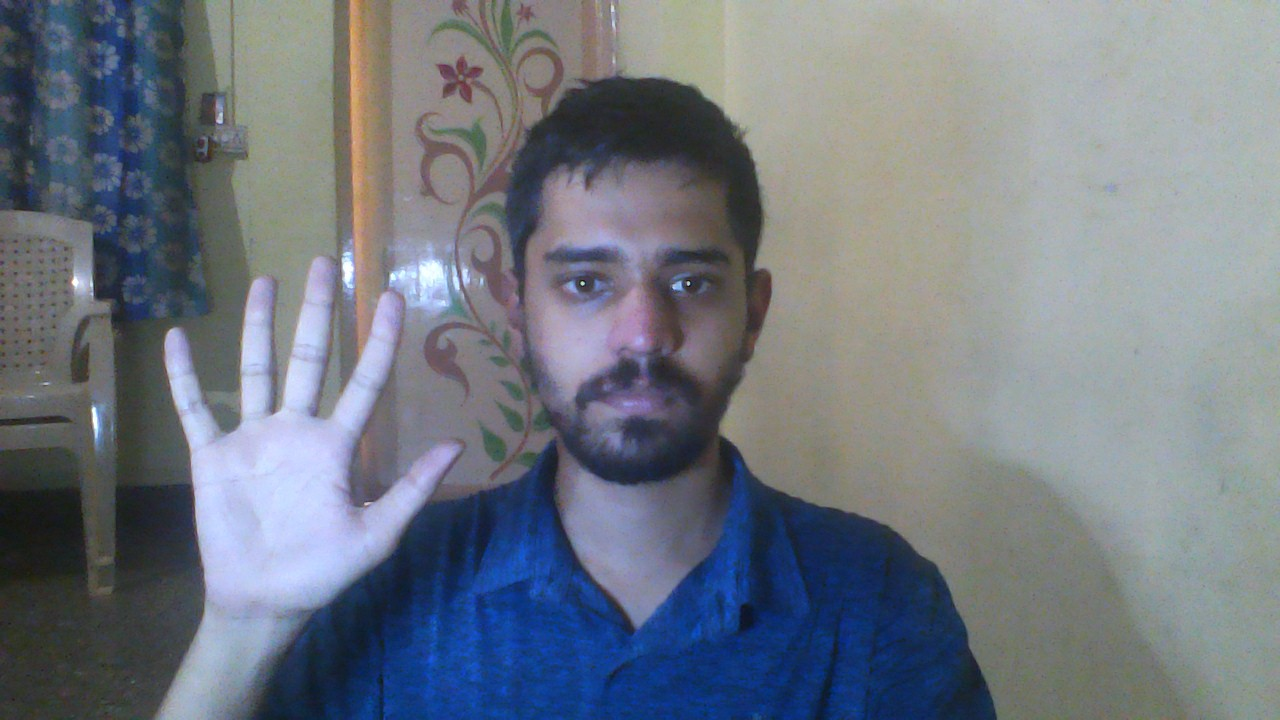hello: (151, 246, 477, 633)
